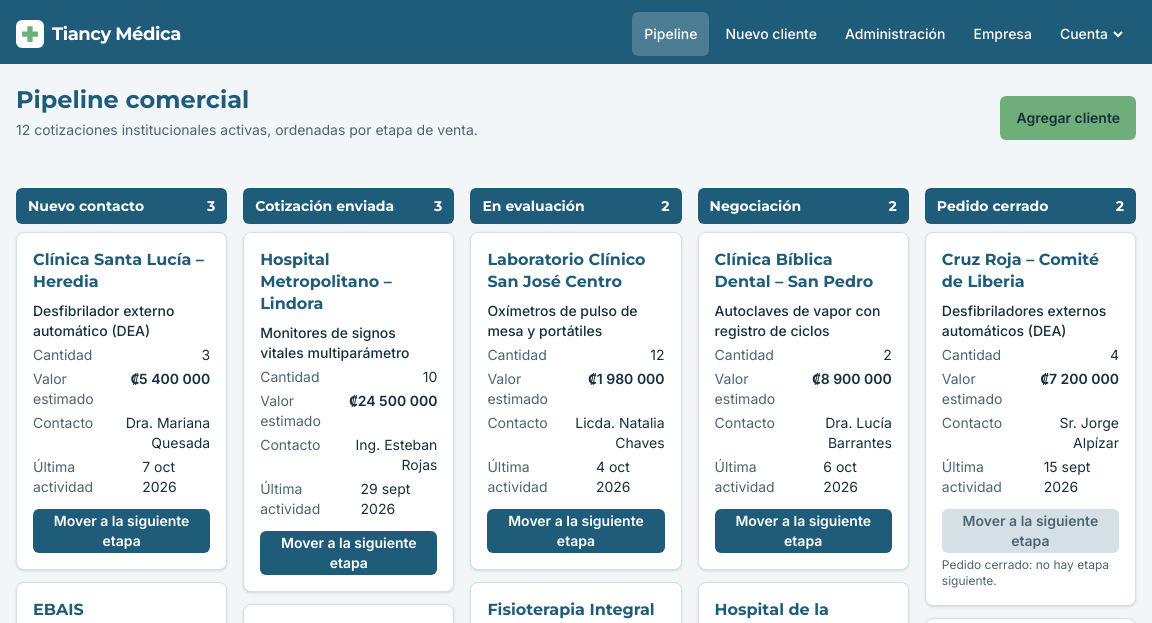
it: AccountMenu › closes on an outside click
Check: the heading "Pipeline comercial" is shown, box [16,85,249,114]
Click the button "Cuenta": x=1092, y=34 [1048,12,1136,56]
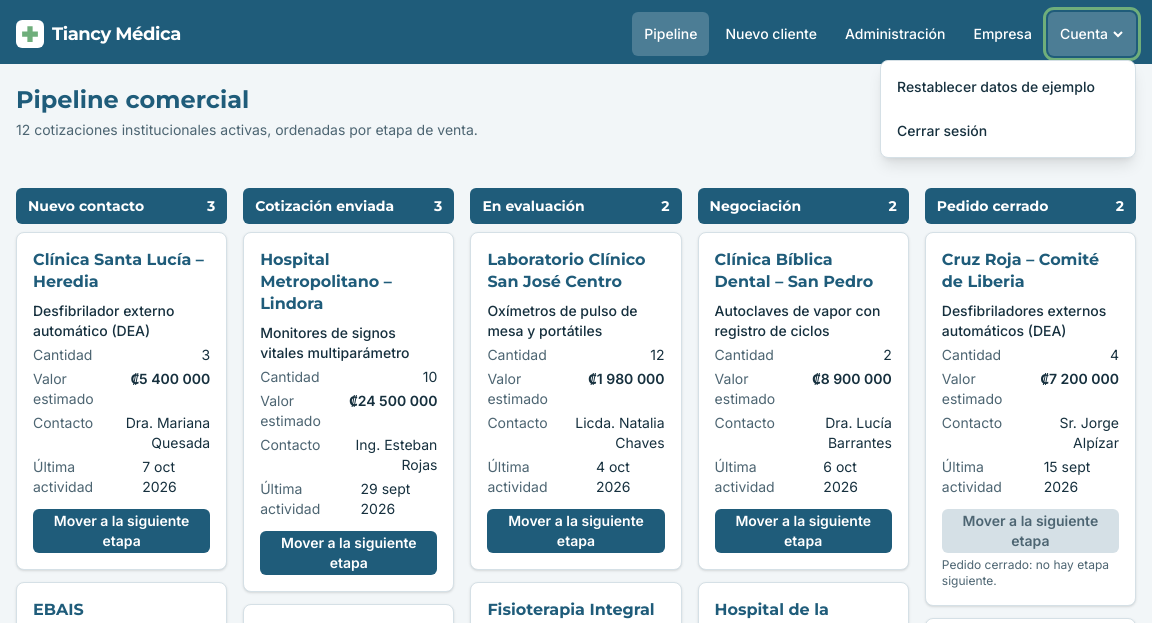
Click the heading "Pipeline comercial": x=133, y=100 [16,85,249,114]
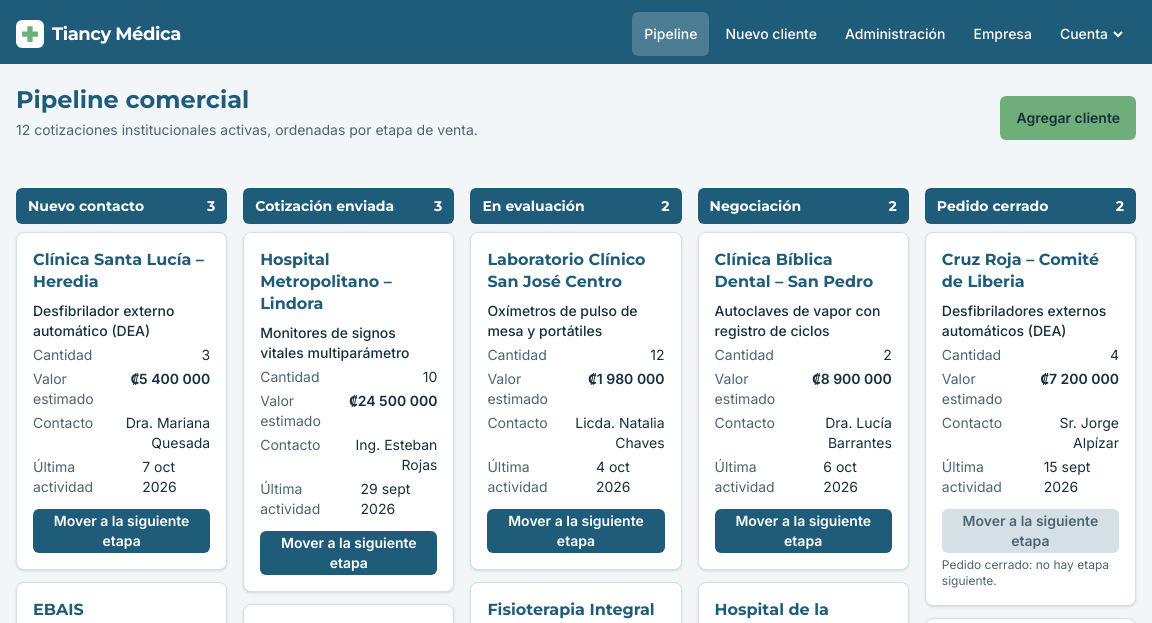
Check: the button "Cerrar sesión" is gone
